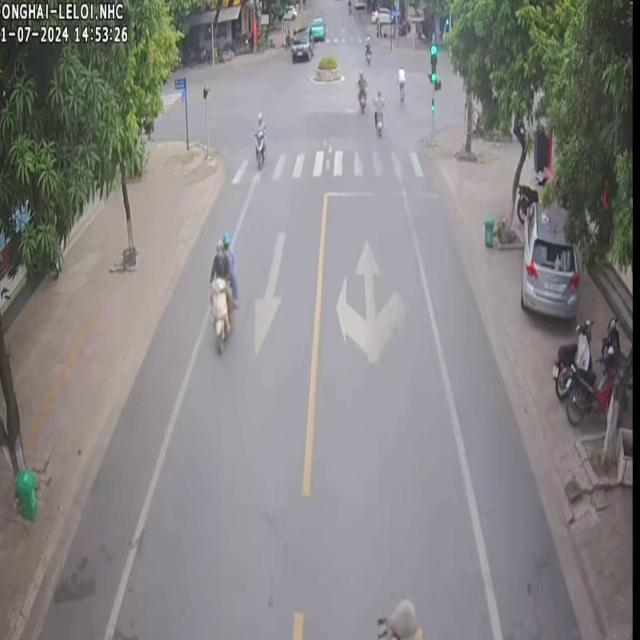car: (519, 200, 578, 317), (289, 25, 312, 59), (307, 16, 327, 40)
green_light: (429, 46, 438, 84)
motobike: (564, 351, 614, 422), (550, 318, 590, 398), (208, 238, 232, 351), (252, 111, 264, 167), (372, 87, 383, 134), (356, 69, 366, 110)
stop_line: (325, 187, 445, 199)
